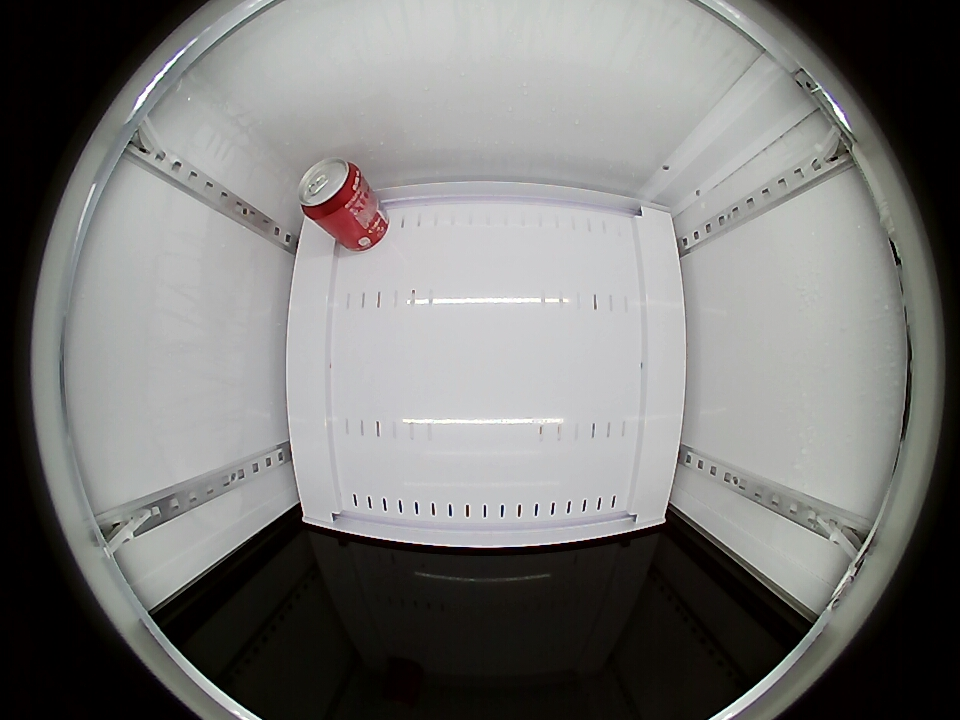kele: (297, 157, 364, 219)
